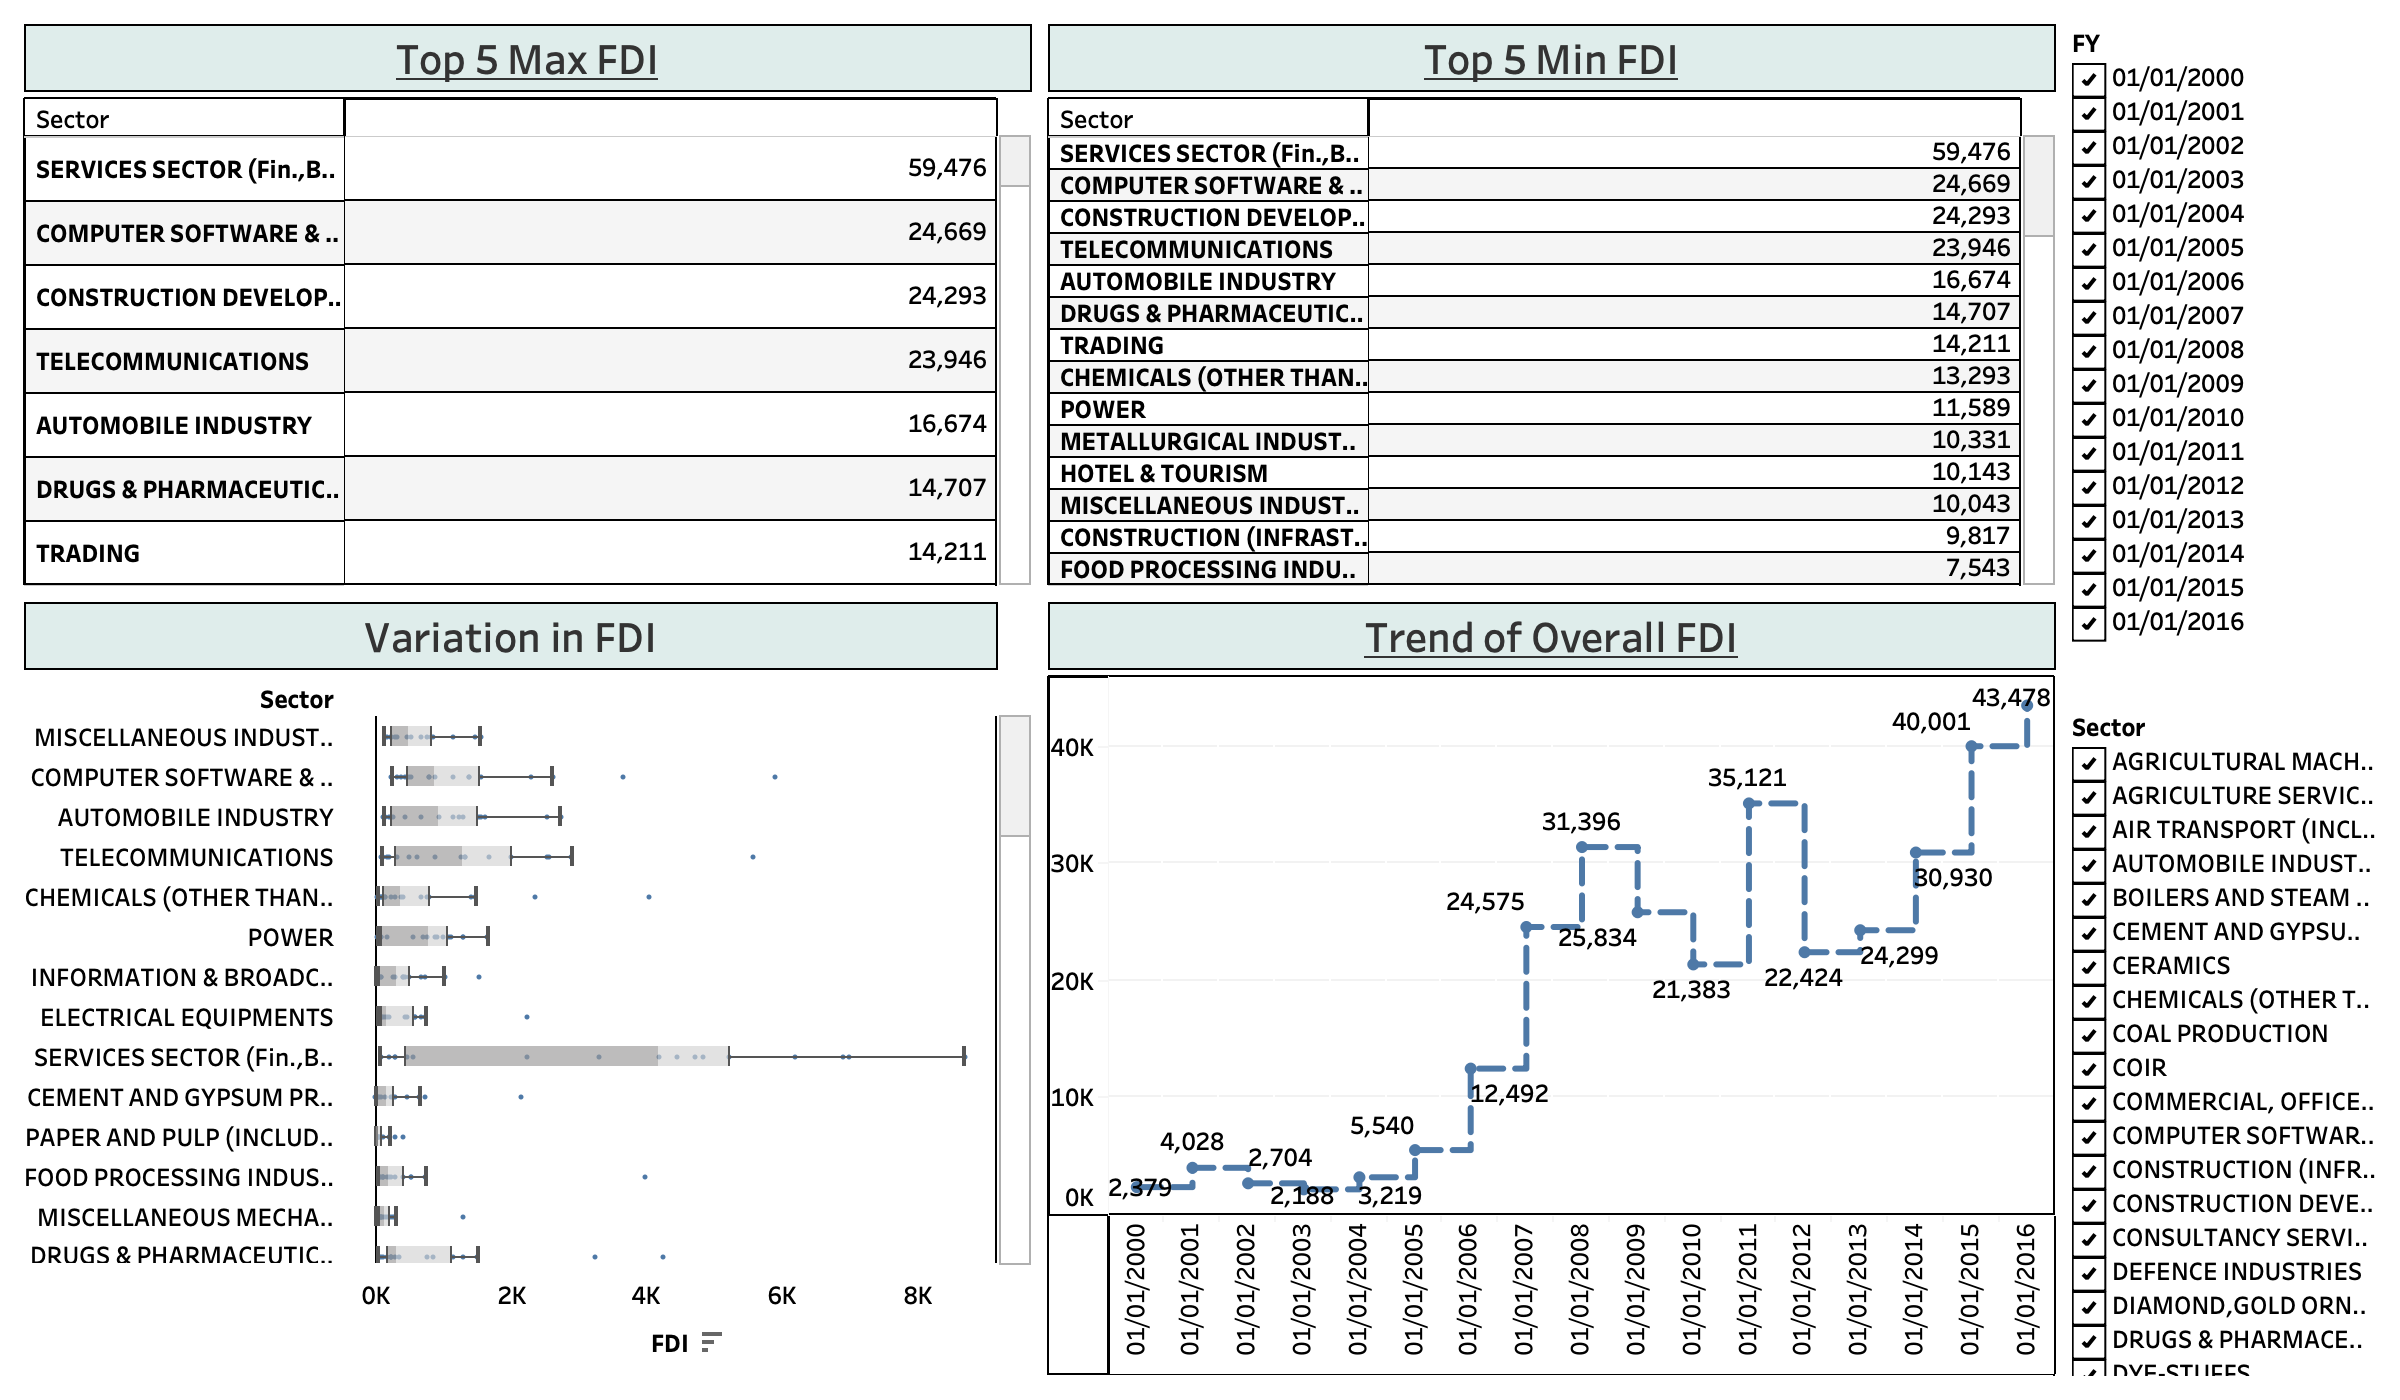

The page's visual inventory and layout, read from the dashboard file:
{"tool":"tableau","page":{"name":"Dashboard 1","canvas":[1200,700],"ordinal":0},"visuals":[{"type":"worksheet","title":"Top 5 Max FDI ","mark":"Automatic","rows":["Sector"],"box":[8,8,512,289]},{"type":"worksheet","title":"Top 5 Min FDI","mark":"Automatic","rows":["Sector"],"box":[520,8,512,289]},{"type":"filter","title":"Top 5 Min FDI","param":"[federated.0hdzc2f15fluij17tfksx0r0upzz].[none:Calculation_104849471985823745:nk","box":[1032,8,160,342]},{"type":"worksheet","title":"Variation in FDI","mark":"Circle","rows":["Sector"],"cols":["Pivot Field Values"],"box":[8,297,512,395]},{"type":"worksheet","title":"Trend of Overall FDI","mark":"Automatic","rows":["Pivot Field Values"],"cols":["Calculation_104849471985823745"],"box":[520,297,512,395]},{"type":"filter","title":"Trend of Overall FDI","param":"[federated.0hdzc2f15fluij17tfksx0r0upzz].[none:Sector:nk]","box":[1032,350,160,342]}]}

Visuals, with their boxes in screenshot pixels (x1, y1, x2, y2), scaled from the page's 1200x700 canvas onto the 2400x1400 screenshot:
"Top 5 Max FDI " worksheet: <region>16, 16, 1040, 594</region>
"Top 5 Min FDI" worksheet: <region>1040, 16, 2064, 594</region>
"Top 5 Min FDI" filter: <region>2064, 16, 2384, 700</region>
"Variation in FDI" worksheet (Circle marks): <region>16, 594, 1040, 1384</region>
"Trend of Overall FDI" worksheet: <region>1040, 594, 2064, 1384</region>
"Trend of Overall FDI" filter: <region>2064, 700, 2384, 1384</region>
